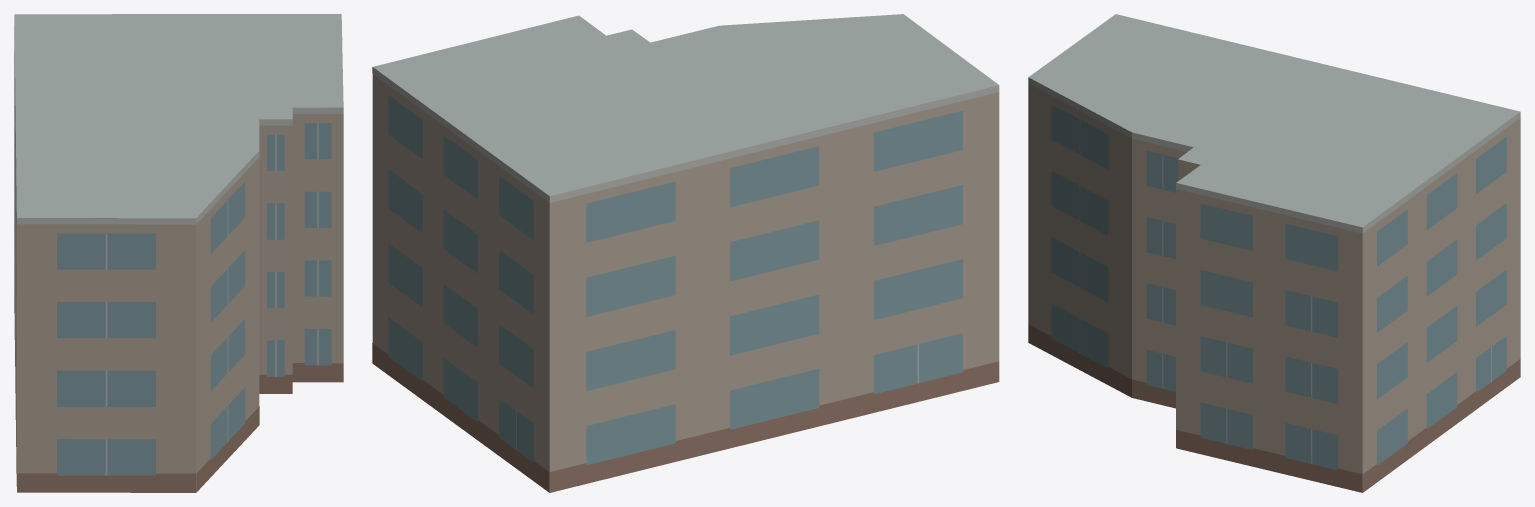
The model's file is survey-upis-32520007.glb.
The picture shows the model from 3 angles, left to right: view 1: azimuth 30°, elevation 25°; view 2: azimuth 150°, elevation 25°; view 3: azimuth 270°, elevation 25°; orthographic projection. The views are drawn at different scales.
Parts seen in each view (by area): view 1: survey-upis-32520007.tmp; view 2: survey-upis-32520007.tmp; view 3: survey-upis-32520007.tmp.
Part boxes in pixels (x1,y1,x2,y2): survey-upis-32520007.tmp: [14, 14, 343, 492]; survey-upis-32520007.tmp: [372, 14, 999, 492]; survey-upis-32520007.tmp: [1028, 14, 1520, 492].
Bounding box in the file's own units: 18.29 × 10.6 × 17.83.
